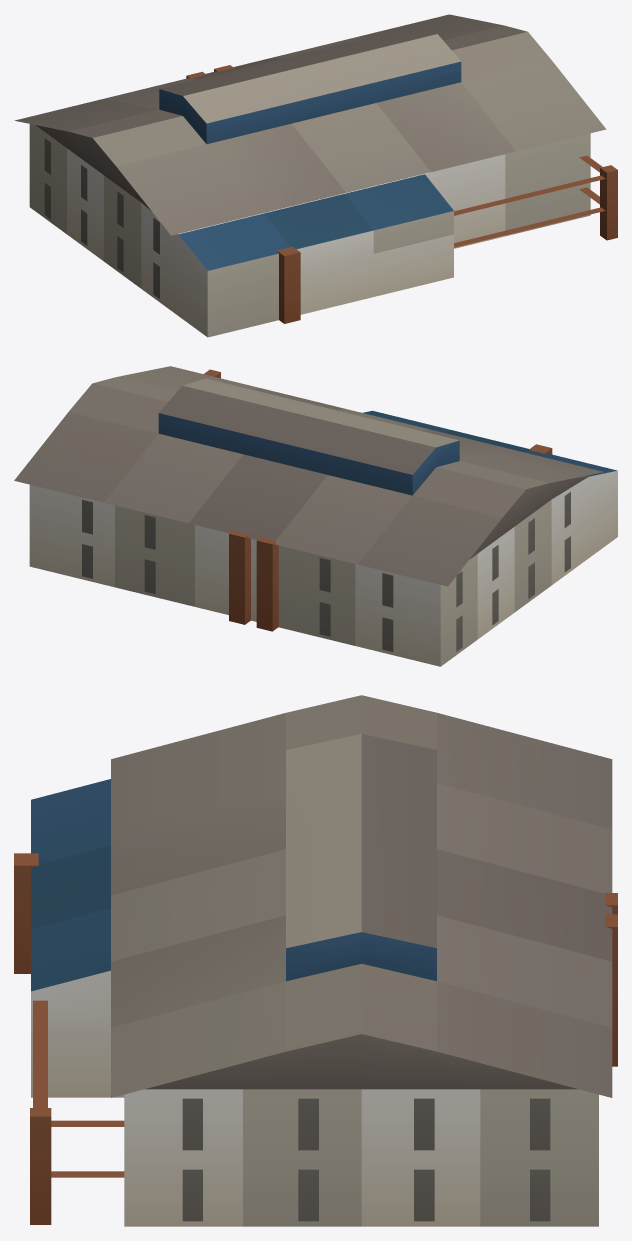
File: SM_Factory_Building_03.fbx
3 views of the same model, one above another, from view 1: azimuth 30°, elevation 25°; view 2: azimuth 150°, elevation 25°; view 3: azimuth 270°, elevation 25° (orthographic). The views are drawn at different scales.
Visible parts, largest first — view 1: SM_Factory_Building_03; view 2: SM_Factory_Building_03; view 3: SM_Factory_Building_03.
Part boxes in pixels (x1,y1,x2,y2): SM_Factory_Building_03: (14,14,617,337); SM_Factory_Building_03: (14,366,617,666); SM_Factory_Building_03: (14,695,617,1226).
Size of the model in its own units: 8.45 by 2.71 by 6.36.
